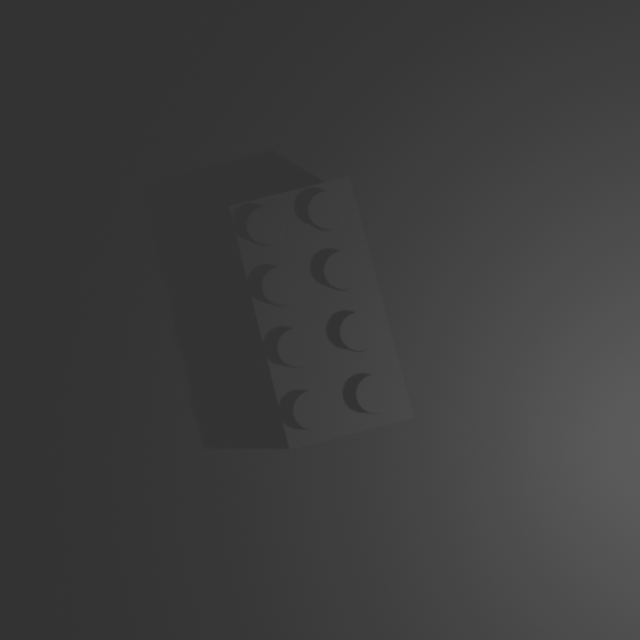lego_2x4: (227, 172, 416, 450)
